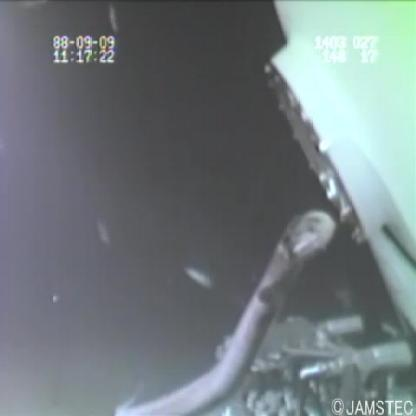Bio: (116, 204, 338, 416)
Rov: (262, 1, 416, 297), (210, 310, 416, 415)
